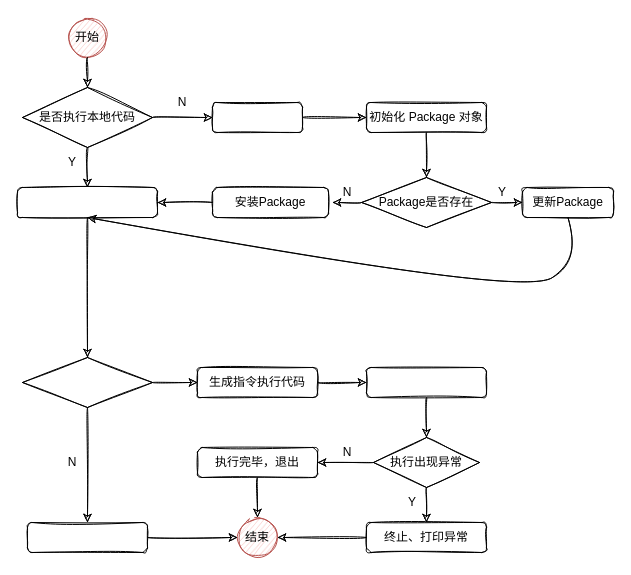
Some shapes in this 631 by 575 pixel diagram are drawn without their labels. Each missing label, with the centre of its shape:
入口文件是否存在: the point at 87,382
启动新进程执行代码: the point at 426,382
终止执行: the point at 87,537
获取本地代码入口文件: the point at 87,202
获取缓存目录: the point at 257,117
